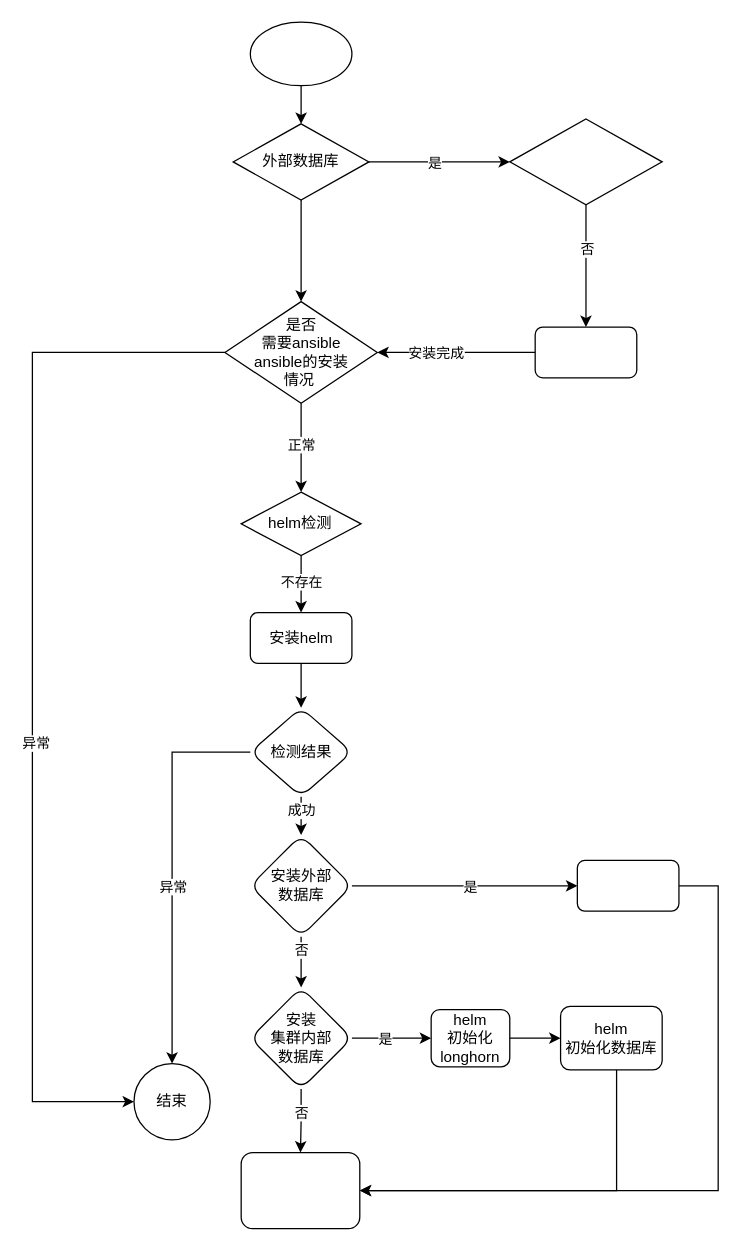
Image size: 751x1251. Some labels were removed from this diagram. The shapes that lost their labels are listed below. From the top down, each one's centre as x and y in pixels, then its label:
the point at 300,53: 初始化启动
the point at 585,161: 初始化 时安装ansible 存在
the point at 585,352: 安装 ansible
the point at 627,885: Ansible 初始化mysql
the point at 300,1190: 数据库连接 配置
